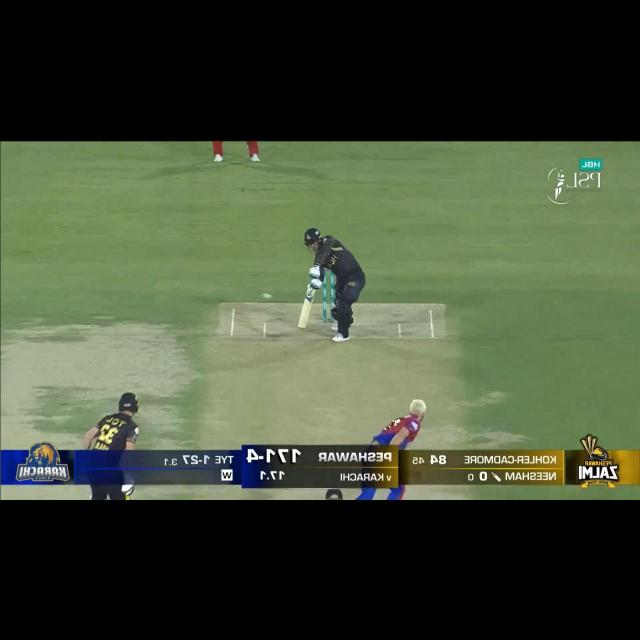bat: (297, 287, 318, 329)
toe: (297, 320, 307, 329)
